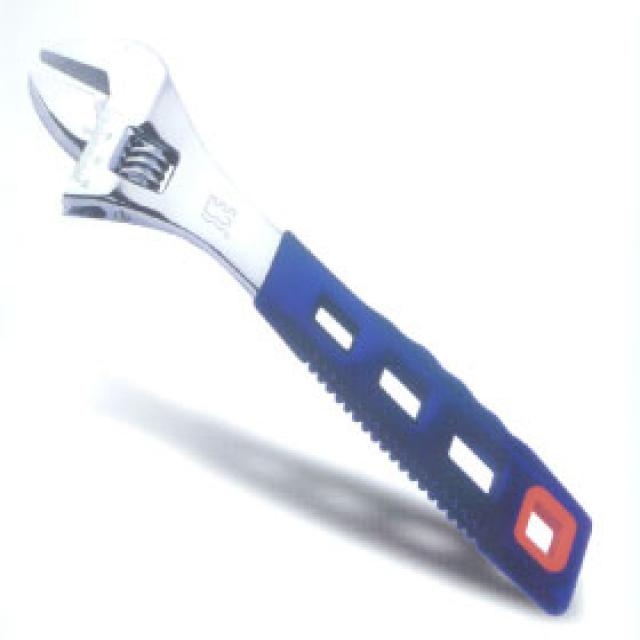wrench: (14, 17, 413, 484)
